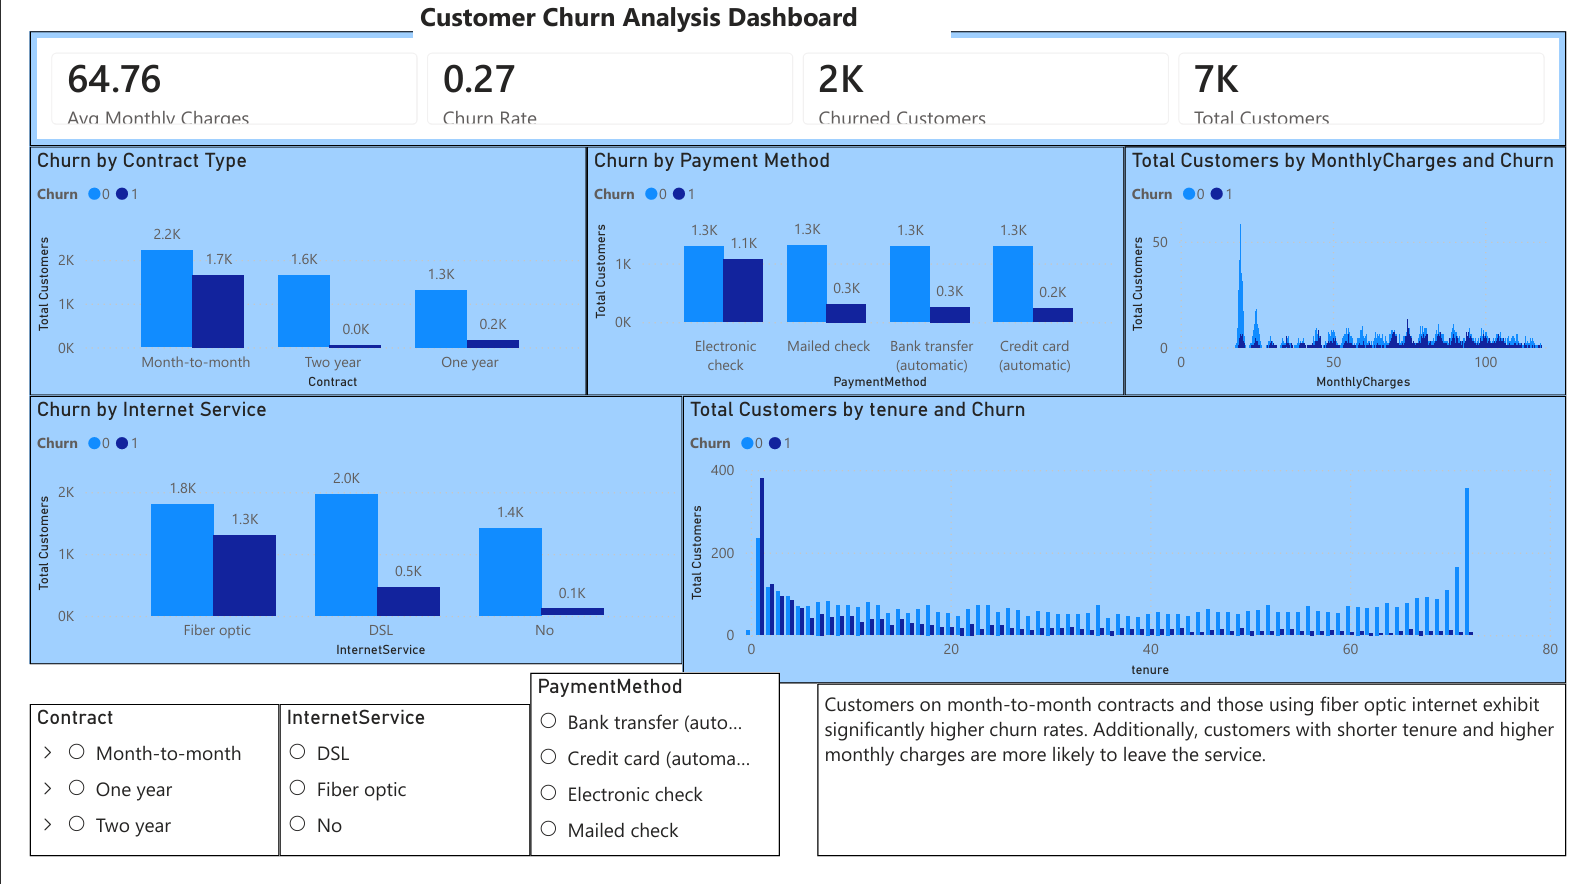

The dashboard page shown, as its layout file describes it:
{"tool":"powerbi","page":{"name":"Customer Churn Analysis Dashboard","canvas":[1280,720],"ordinal":0},"visuals":[{"type":"clusteredColumnChart","title":"Churn by Payment Method","fields":{"Category":["churn_cleaned.PaymentMethod"],"Series":["churn_cleaned.Churn"],"Y":["churn_cleaned.Total Customers"]},"box":[464,128,448,208],"z":0},{"type":"clusteredColumnChart","title":"Churn by Contract Type","fields":{"Category":["churn_cleaned.Contract"],"Series":["churn_cleaned.Churn"],"Y":["churn_cleaned.Total Customers"]},"box":[0,128,464,208],"z":1000},{"type":"cardVisual","fields":{"Data":["churn_cleaned.Avg Monthly Charges","churn_cleaned.Churn Rate","churn_cleaned.Churned Customers","churn_cleaned.Total Customers"]},"box":[0,32,1280,96],"z":2000},{"type":"clusteredColumnChart","title":"Churn by Internet Service","fields":{"Category":["churn_cleaned.InternetService"],"Series":["churn_cleaned.Churn"],"Y":["churn_cleaned.Total Customers"]},"box":[0,336,544,224],"z":3000},{"type":"clusteredColumnChart","fields":{"Y":["churn_cleaned.Total Customers"],"Series":["churn_cleaned.Churn"],"Category":["churn_cleaned.MonthlyCharges"]},"box":[912,128,368,208],"z":4000},{"type":"clusteredColumnChart","fields":{"Category":["churn_cleaned.tenure"],"Series":["churn_cleaned.Churn"],"Y":["churn_cleaned.Total Customers"]},"box":[544,336,736,240],"z":5000},{"type":"listSlicer","fields":{"Values":["churn_cleaned.Contract","churn_cleaned.InternetService"]},"box":[0,593.2,208.3,126.5],"z":6000},{"type":"listSlicer","fields":{"Values":["churn_cleaned.InternetService"]},"box":[208.3,593.2,208.3,126.5],"z":7000},{"type":"listSlicer","fields":{"Values":["churn_cleaned.PaymentMethod"]},"box":[416.5,567.2,208.3,152.5],"z":8000},{"type":"textbox","box":[656,576,624,144],"z":9000},{"type":"textbox","box":[320,0,448,48],"z":10000}]}

Visuals, with their boxes in screenshot pixels (x1, y1, x2, y2), scaled from the page's 1280x720 canvas onto the 1592x884 screenshot:
"Churn by Payment Method" clusteredColumnChart: box=[577, 157, 1134, 413]
"Churn by Contract Type" clusteredColumnChart: box=[0, 157, 577, 413]
cardVisual - churn_cleaned.Avg Monthly Charges x churn_cleaned.Churn Rate: box=[0, 39, 1591, 157]
"Churn by Internet Service" clusteredColumnChart: box=[0, 413, 677, 688]
clusteredColumnChart - churn_cleaned.Total Customers x churn_cleaned.Churn: box=[1134, 157, 1591, 413]
clusteredColumnChart - churn_cleaned.tenure x churn_cleaned.Churn: box=[677, 413, 1591, 707]
listSlicer - churn_cleaned.Contract x churn_cleaned.InternetService: box=[0, 728, 259, 883]
listSlicer - churn_cleaned.InternetService: box=[259, 728, 518, 883]
listSlicer - churn_cleaned.PaymentMethod: box=[518, 696, 777, 883]
textbox: box=[816, 707, 1591, 883]
textbox: box=[398, 0, 955, 59]
